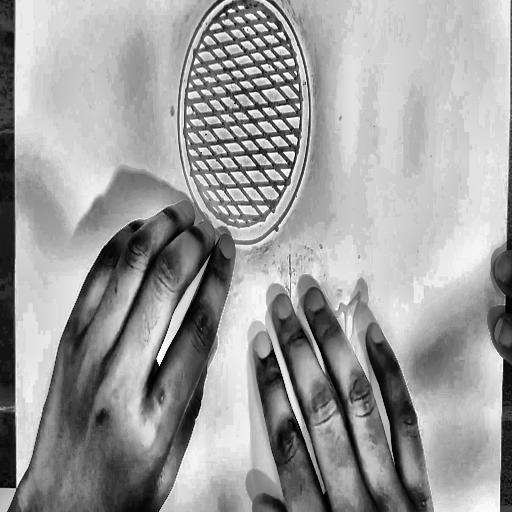badminton: (132, 0, 373, 512)
